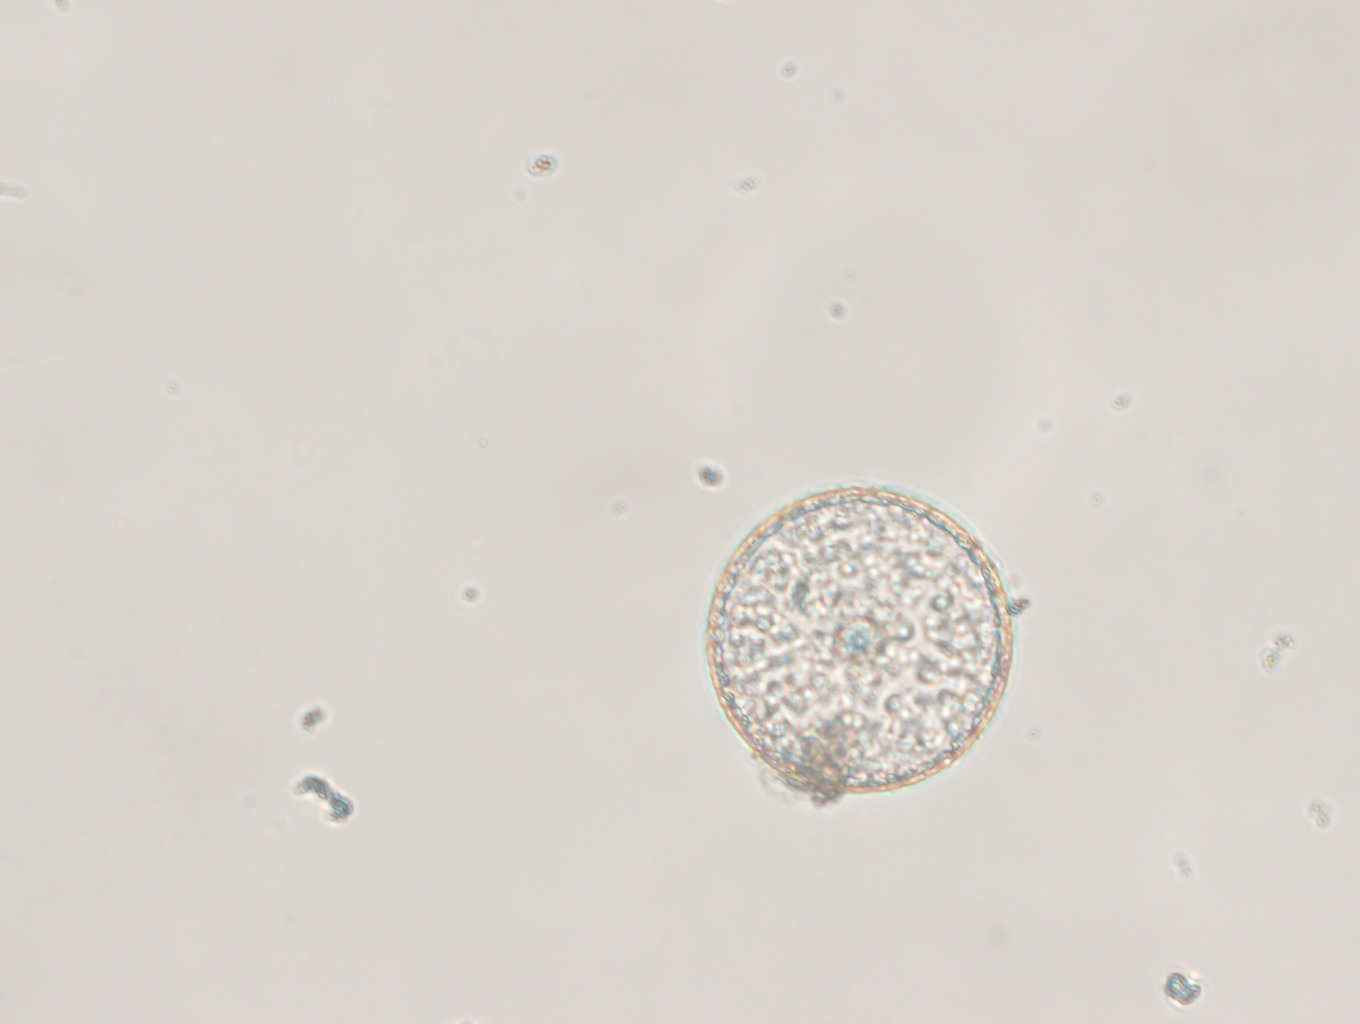coscinodiscus: (693, 481, 1051, 809)
